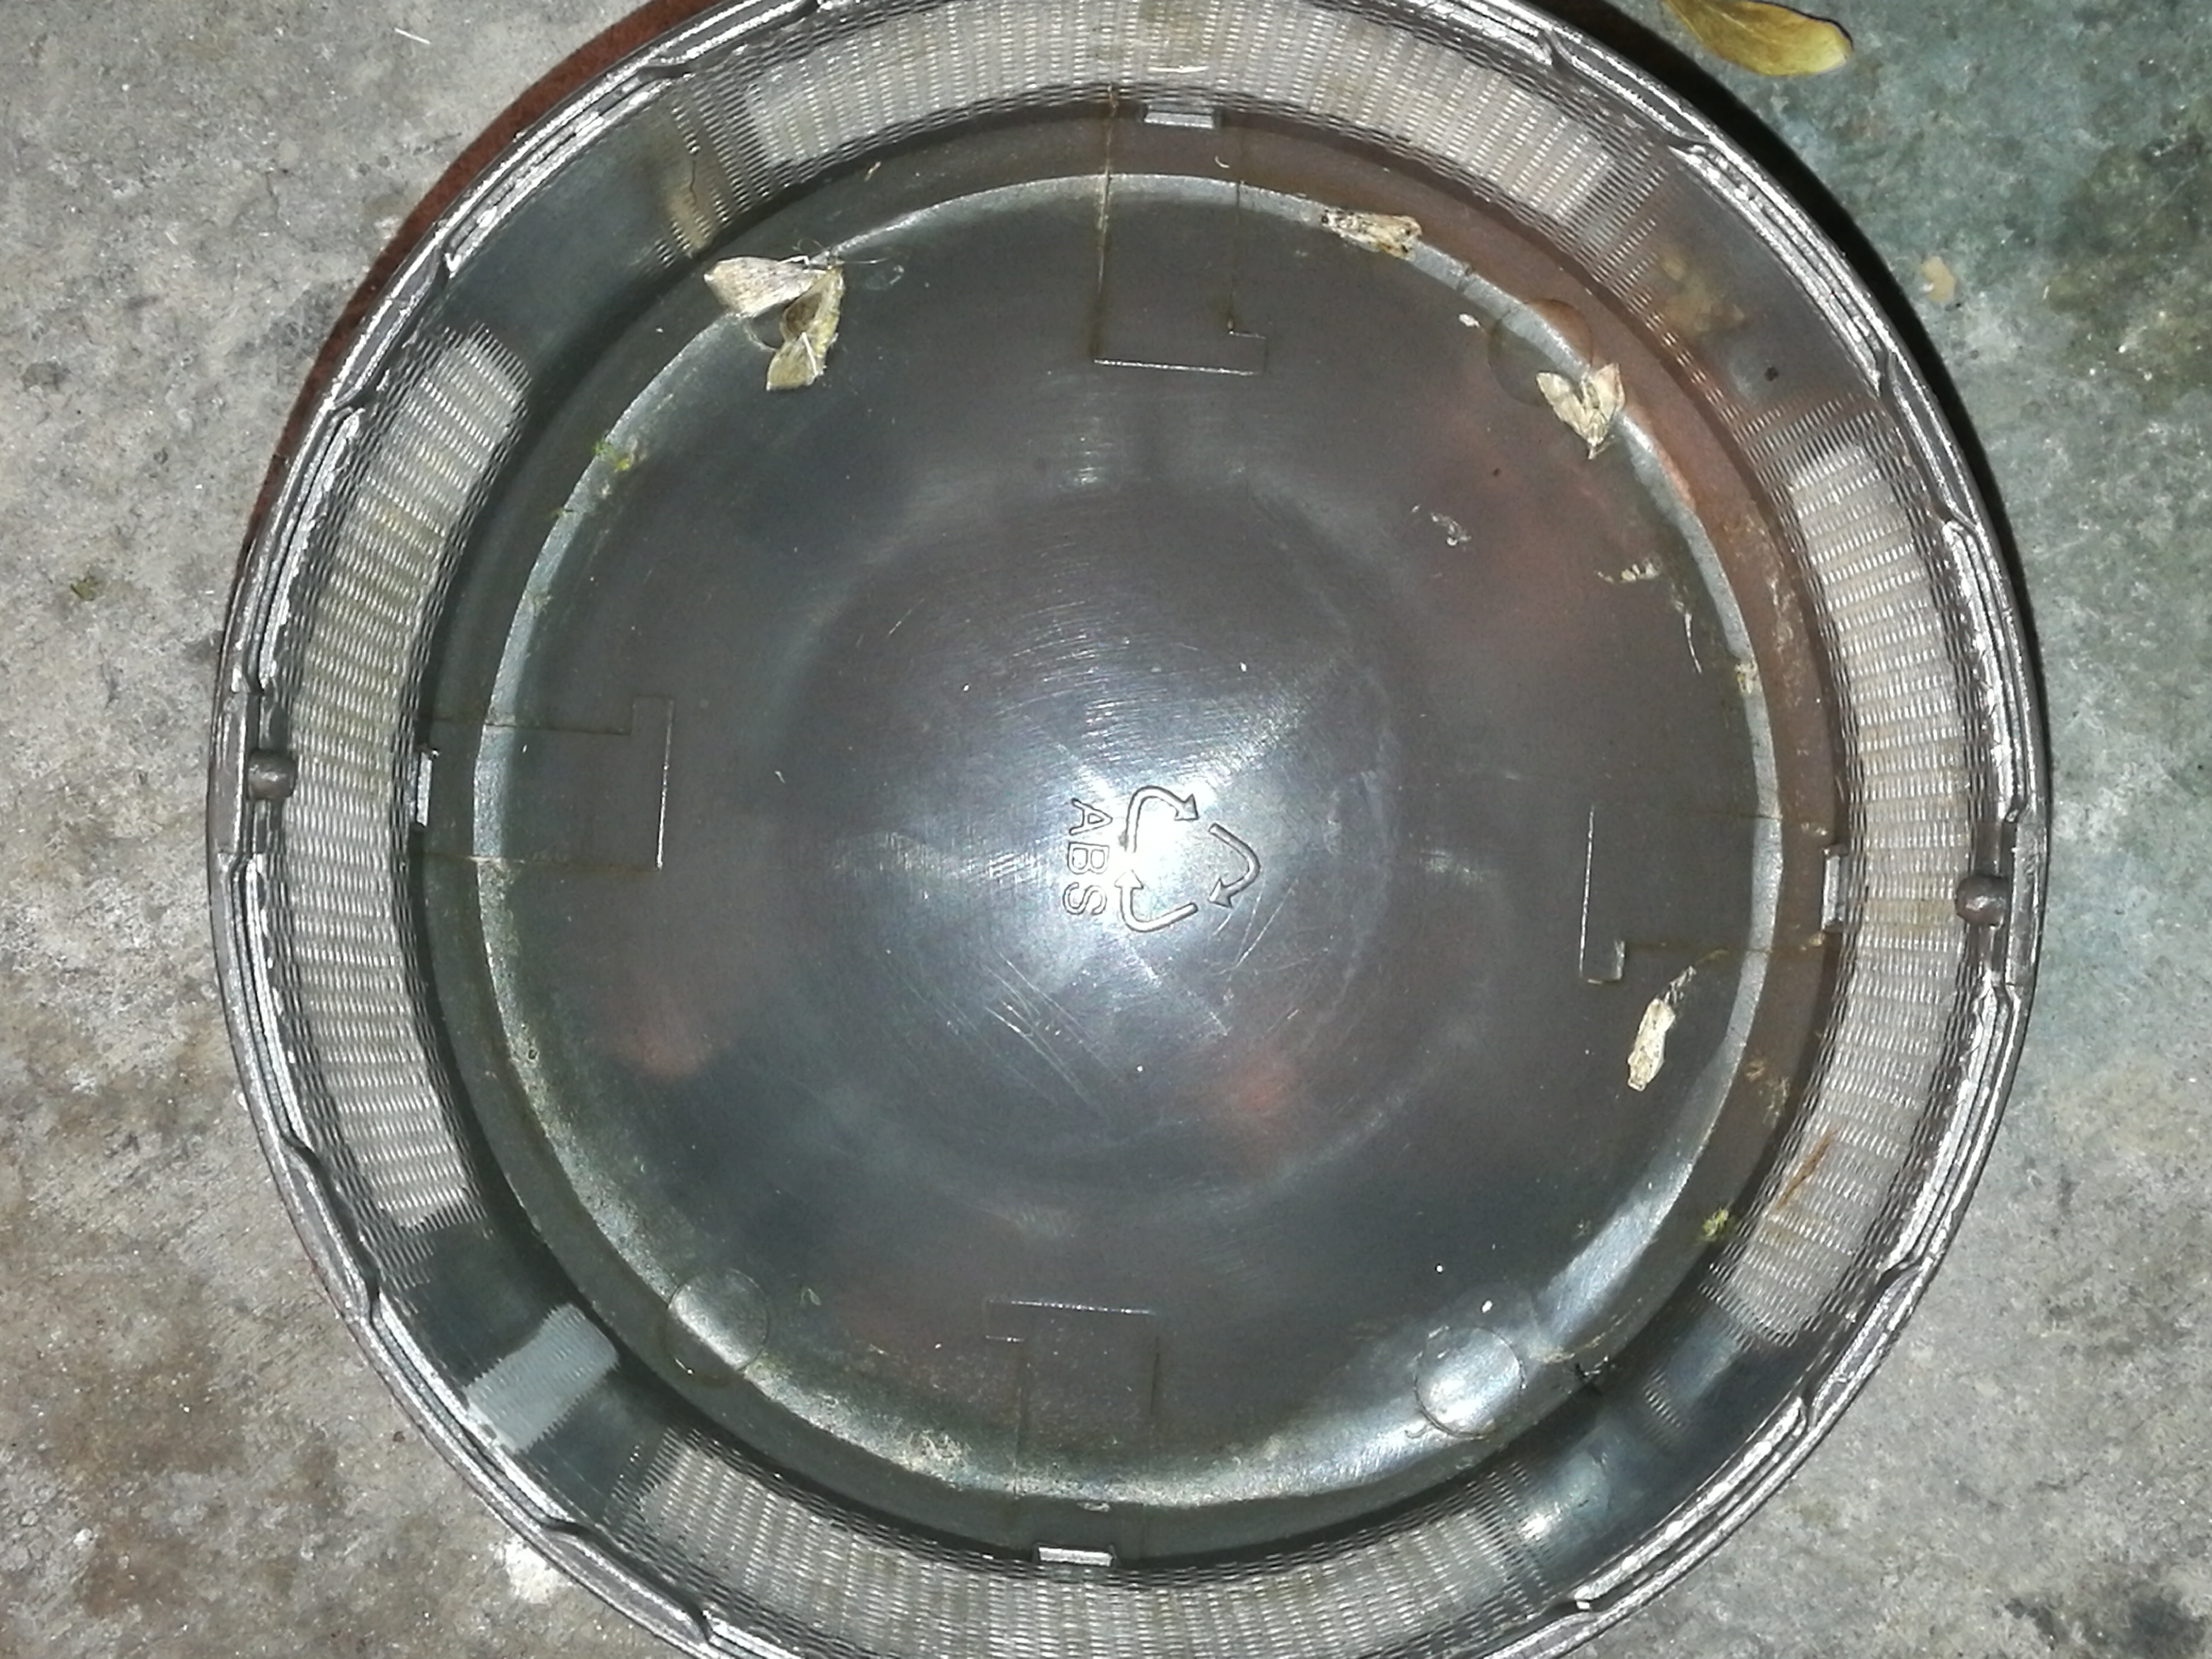mosquito: (1324, 207, 1421, 258), (1627, 1002, 1674, 1093)
moth: (704, 256, 843, 390), (1538, 361, 1625, 462)
